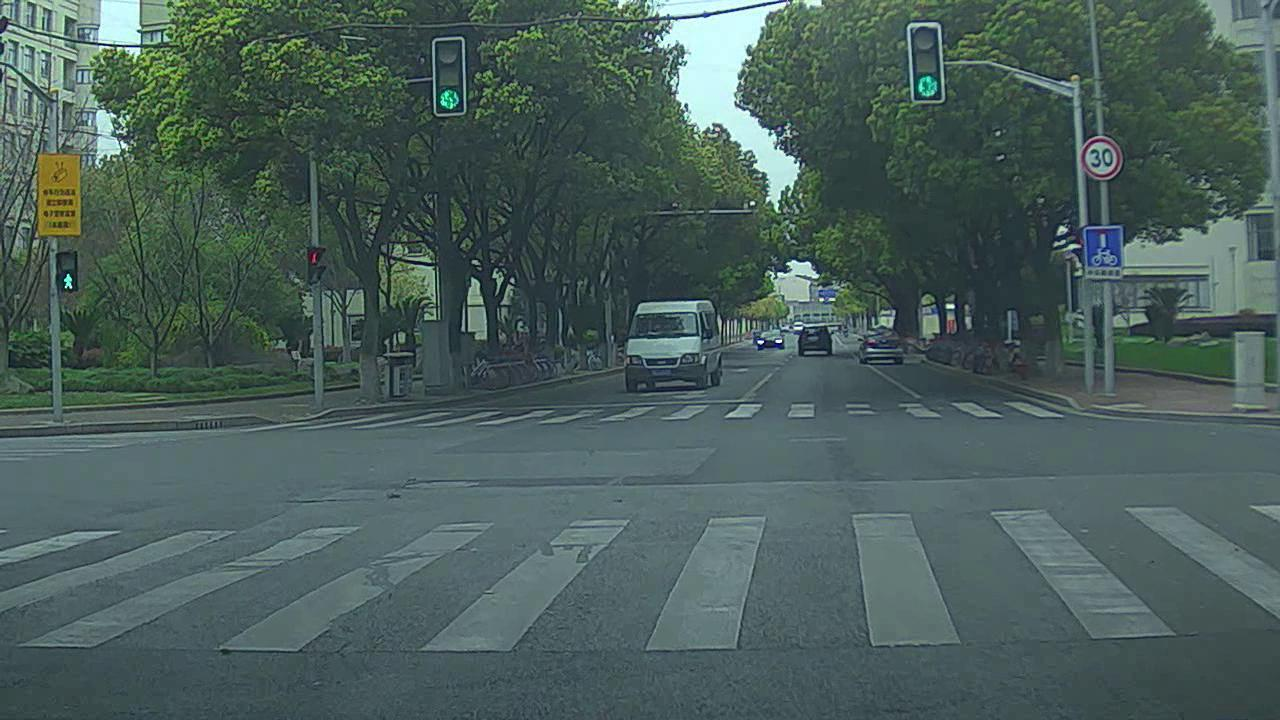traffic_light: (909, 22, 947, 100), (431, 39, 467, 119)
